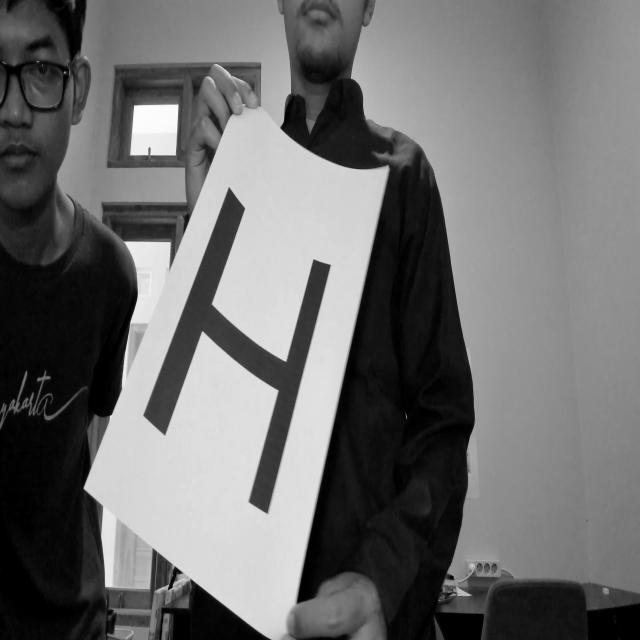h: (136, 165, 338, 548)
